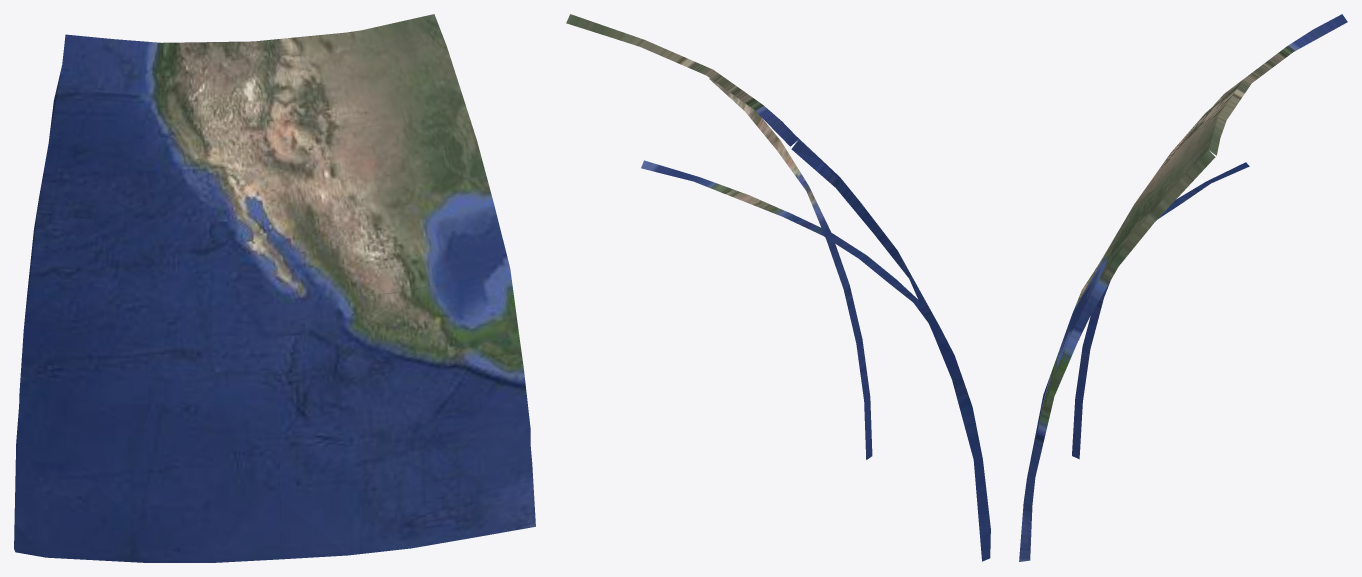
3 views of the same model, side by side, from view 1: azimuth 30°, elevation 25°; view 2: azimuth 150°, elevation 25°; view 3: azimuth 270°, elevation 25° (orthographic). The views are drawn at different scales.
Size of the model in its own units: 4550681 by 4554590 by 3275967.
1 material, 1 textured.
